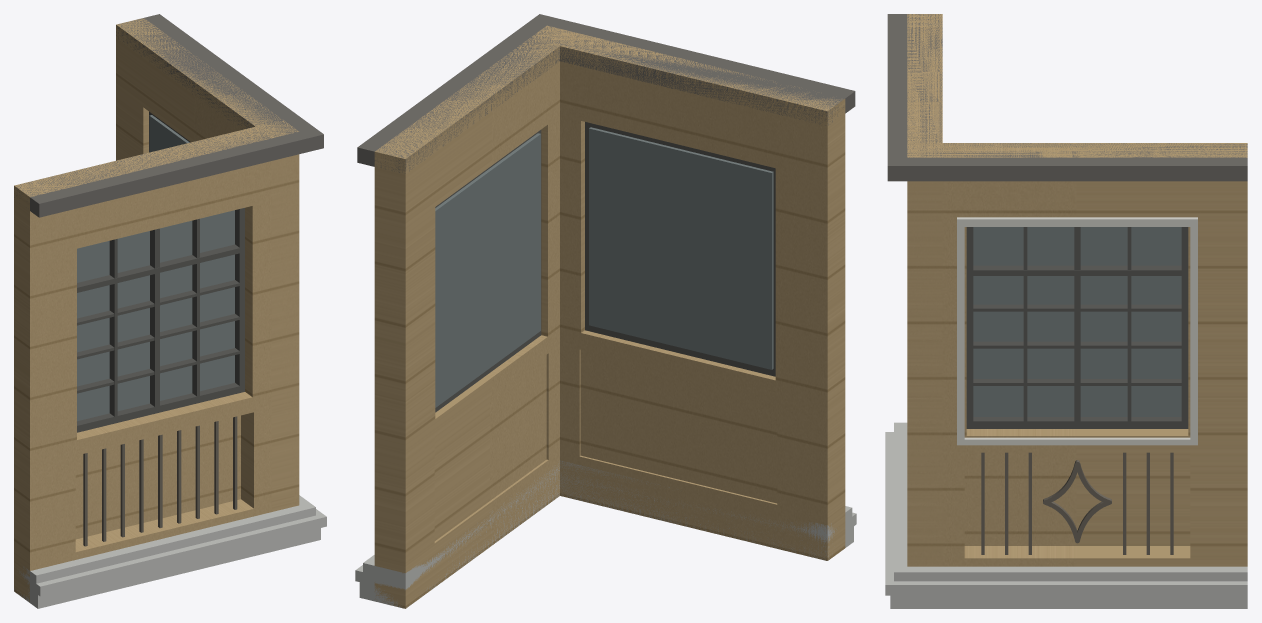
File: yuyuan-1039-steel-corner-windows-near.glb
3 views of the same model, side by side, from view 1: azimuth 30°, elevation 25°; view 2: azimuth 150°, elevation 25°; view 3: azimuth 270°, elevation 25° (orthographic). The views are drawn at different scales.
Parts seen in each view (by area): view 1: 愚园路1039号住宅转角钢格窗与下槛铁花; view 2: 愚园路1039号住宅转角钢格窗与下槛铁花; view 3: 愚园路1039号住宅转角钢格窗与下槛铁花.
Part boxes in pixels (x1,y1,x2,y2): 愚园路1039号住宅转角钢格窗与下槛铁花: [14, 14, 326, 608]; 愚园路1039号住宅转角钢格窗与下槛铁花: [355, 14, 856, 608]; 愚园路1039号住宅转角钢格窗与下槛铁花: [885, 14, 1247, 608].
Bounding box in the file's own units: 1.96 × 2.65 × 1.96.
7 materials, 1 textured.
